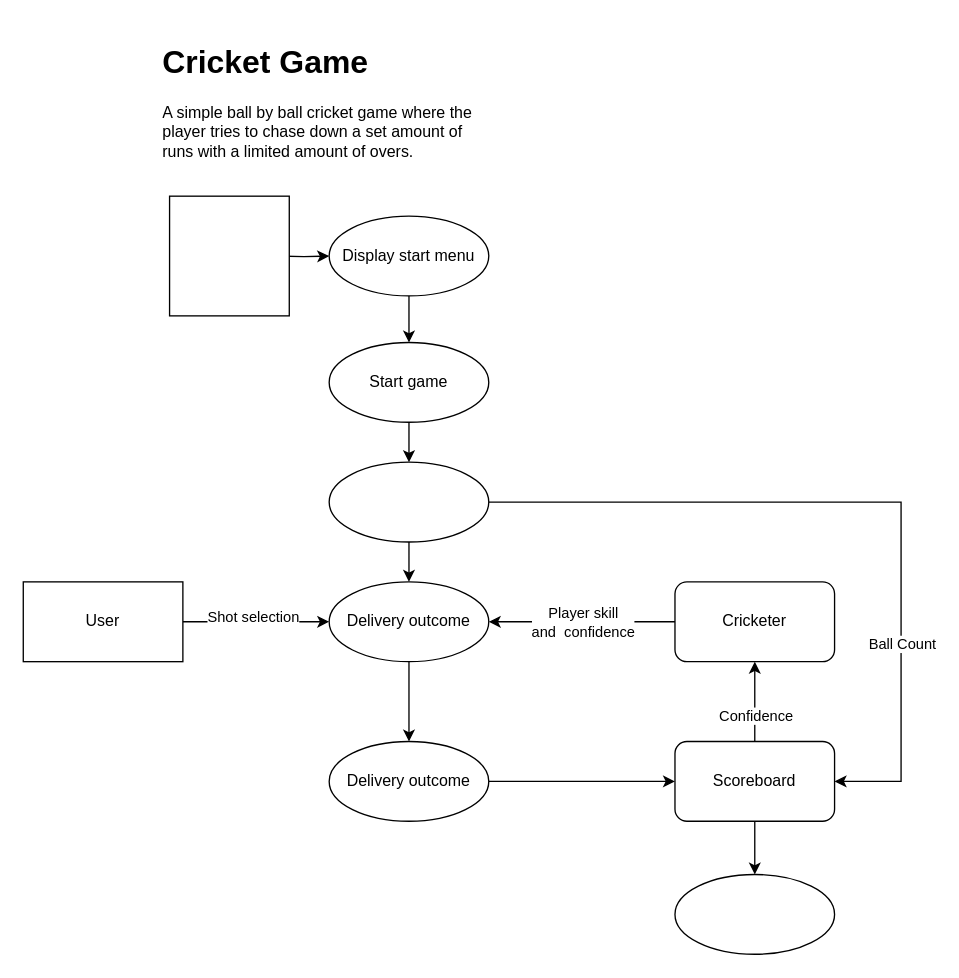
Some shapes in this 959 by 978 pixel diagram are drawn without their labels. Each missing label, with the centre of its shape:
"Bowler bowls ball" belongs at [408,501].
"Cricket game" belongs at [228,255].
"End game" belongs at [754,913].
